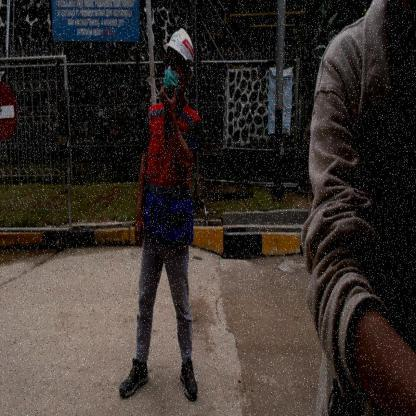boots: (118, 352, 150, 400), (178, 359, 202, 403)
helmet: (166, 26, 196, 72)
mask: (162, 67, 185, 96)
